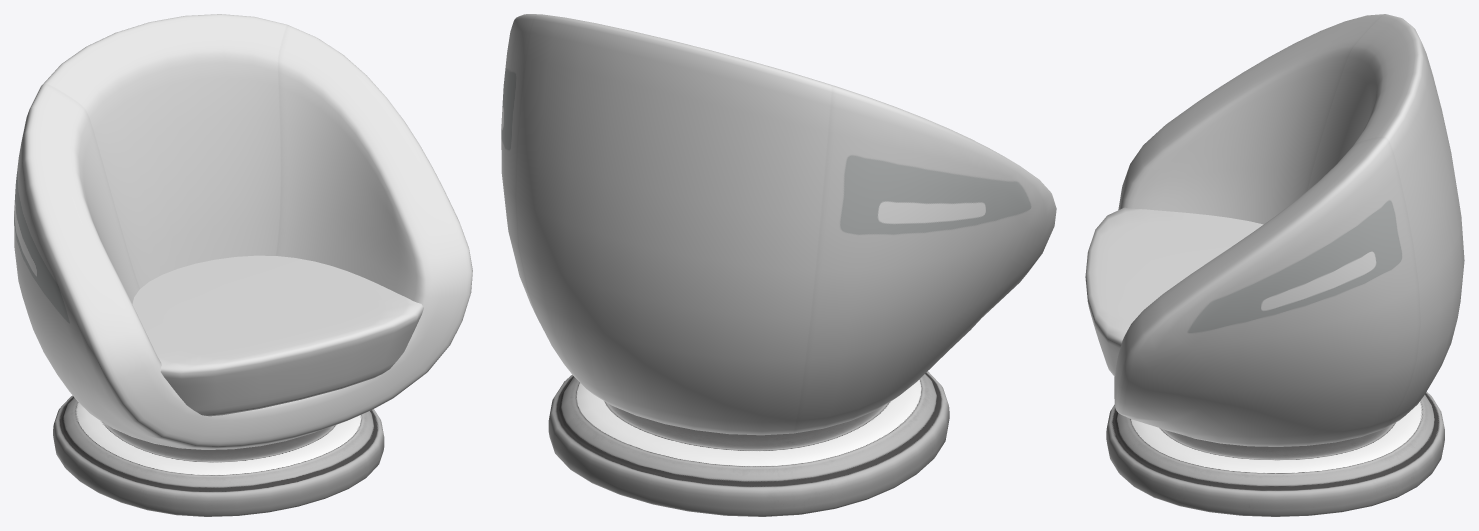
The model's file is Chair01.FBX.
The picture shows the model from 3 angles, left to right: view 1: azimuth 30°, elevation 25°; view 2: azimuth 150°, elevation 25°; view 3: azimuth 270°, elevation 25°; orthographic projection. The views are drawn at different scales.
Parts seen in each view (by area): view 1: Chair01; view 2: Chair01; view 3: Chair01.
Part boxes in pixels (x1,y1,x2,y2): Chair01: (14, 14, 472, 516); Chair01: (501, 14, 1056, 516); Chair01: (1085, 14, 1464, 516).
Size of what is drawn, in the model's own units: 1.3 by 1.22 by 1.07.
